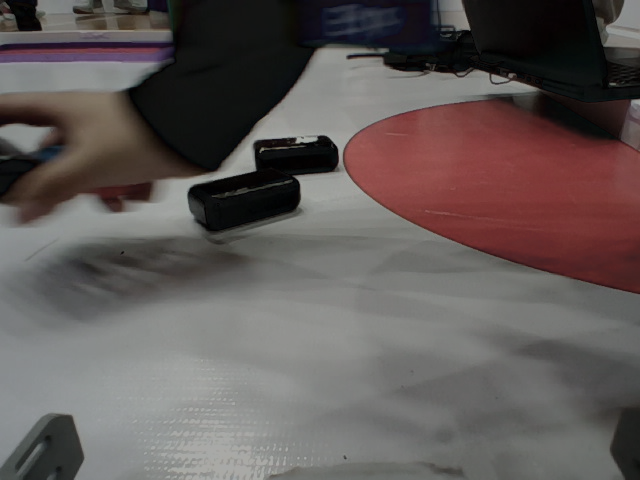black: (184, 168, 311, 244), (228, 130, 362, 179)
